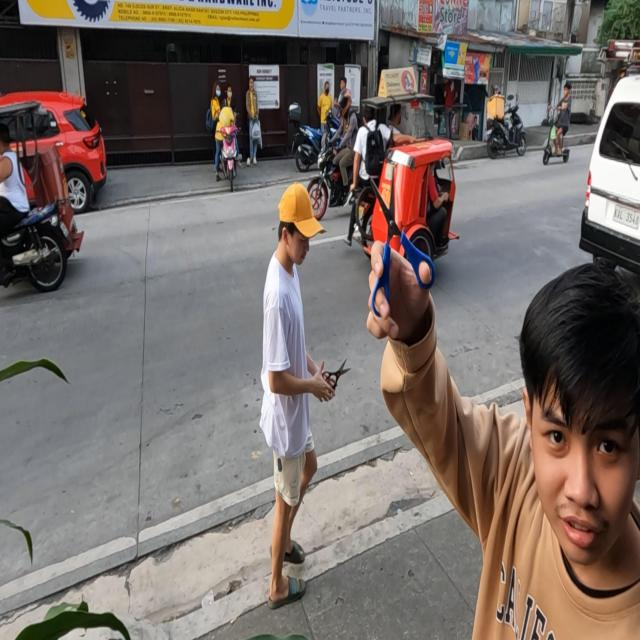scissor: (372, 172, 436, 316), (321, 358, 350, 397)
